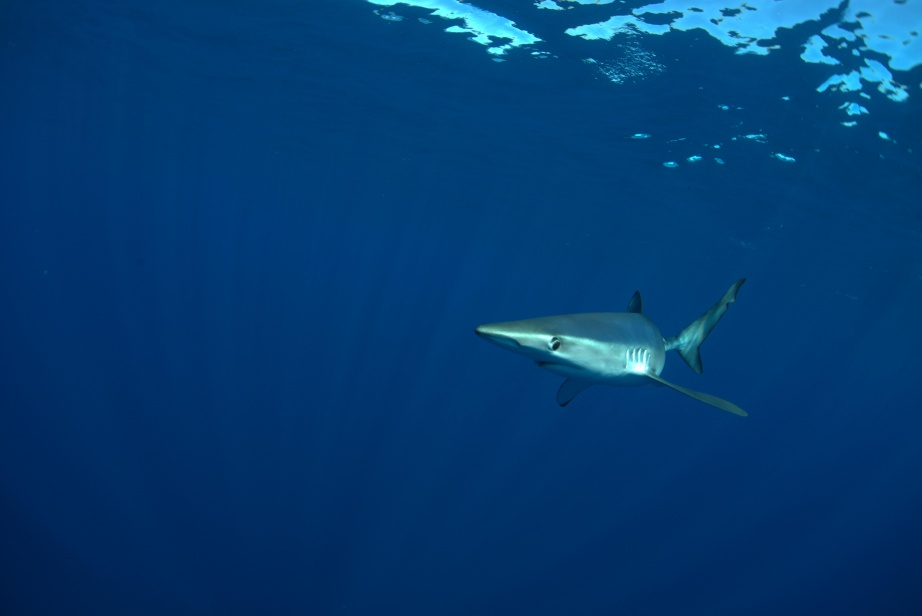Azul: (453, 241, 793, 436)
